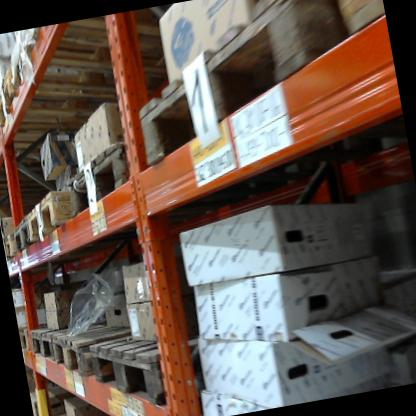pallet: (109, 0, 353, 175), (0, 49, 146, 161), (86, 315, 225, 416), (56, 128, 154, 227), (13, 12, 134, 88), (0, 98, 93, 177), (47, 315, 130, 383), (26, 180, 92, 244), (30, 371, 93, 416), (4, 214, 39, 261), (27, 321, 61, 368), (33, 400, 85, 416), (2, 230, 22, 263), (20, 318, 32, 350)
